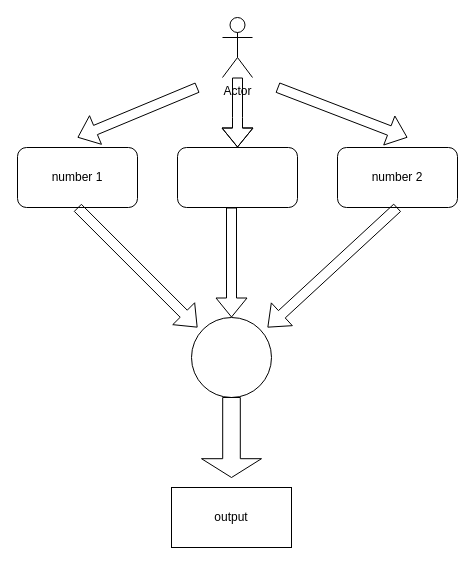
Some shapes in this 475 by 565 pixel diagram are drawn without their labels. The shapes that lost their labels are listed below. From the top down, each one's centre as x and y in pixels, then its label:
At (x=237, y=177): "Function".
At (x=231, y=357): "computer".
